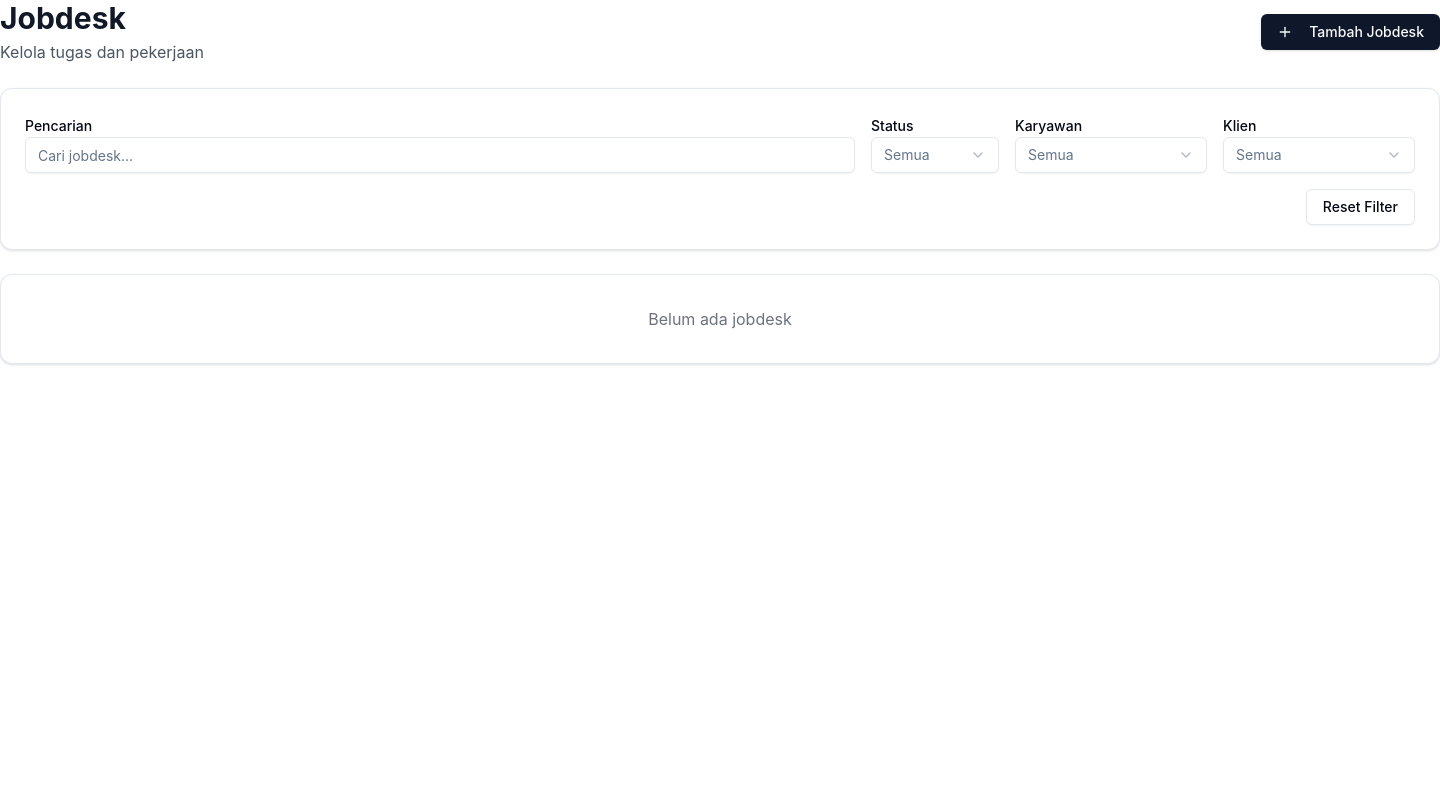
Test: JobdeskPage › opens create modal when clicking create button
Click the button "Tambah Jobdesk": (1351, 32) top-left (1261, 14), bottom-right (1439, 50)
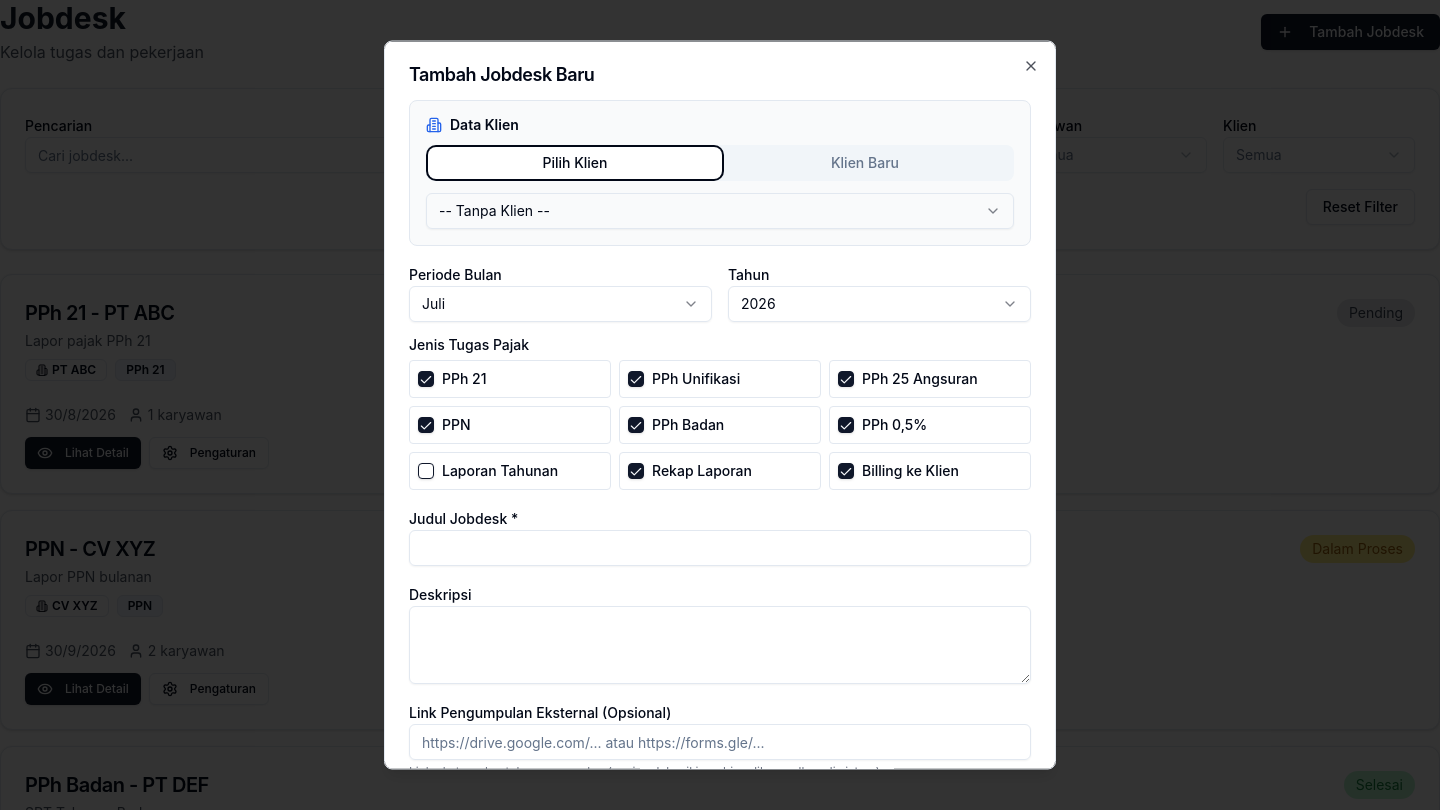
Now the heading "Tambah Jobdesk Baru" is shown, box top-left (409, 64), bottom-right (594, 84)
